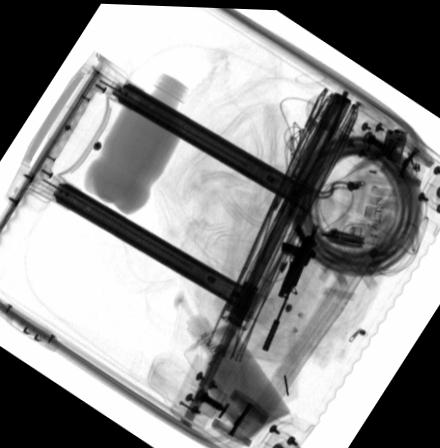Gun: (260, 219, 319, 351)
